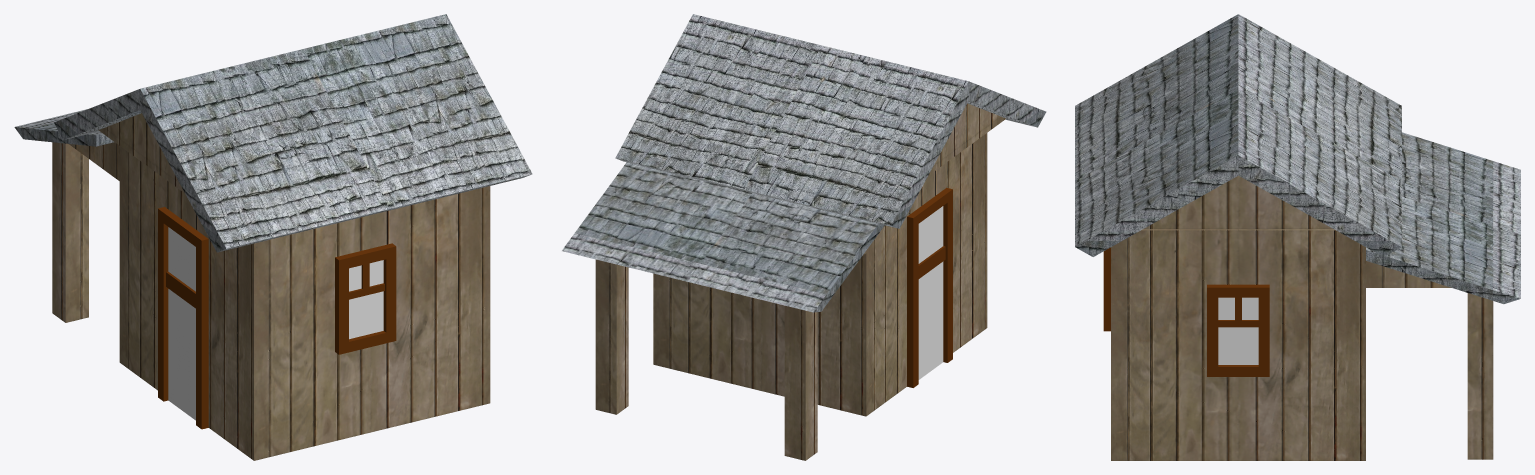
Rendered from Cabin.glb.
The picture shows the model from 3 angles, left to right: view 1: azimuth 30°, elevation 25°; view 2: azimuth 150°, elevation 25°; view 3: azimuth 270°, elevation 25°; orthographic projection. The views are drawn at different scales.
Parts seen in each view (by area): view 1: mergedBlocks(Clone); view 2: mergedBlocks(Clone); view 3: mergedBlocks(Clone).
Part boxes in pixels (x1,y1,x2,y2): mergedBlocks(Clone): (14, 14, 532, 460); mergedBlocks(Clone): (562, 14, 1046, 460); mergedBlocks(Clone): (1075, 14, 1520, 460).
Size of the model in its own units: 1.31 by 1.37 by 1.75.
4 materials, 2 textured.
